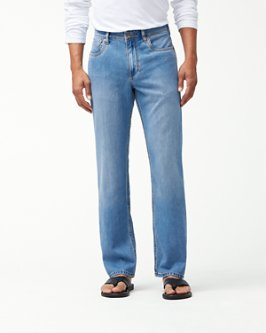jeans: (75, 25, 213, 282)
